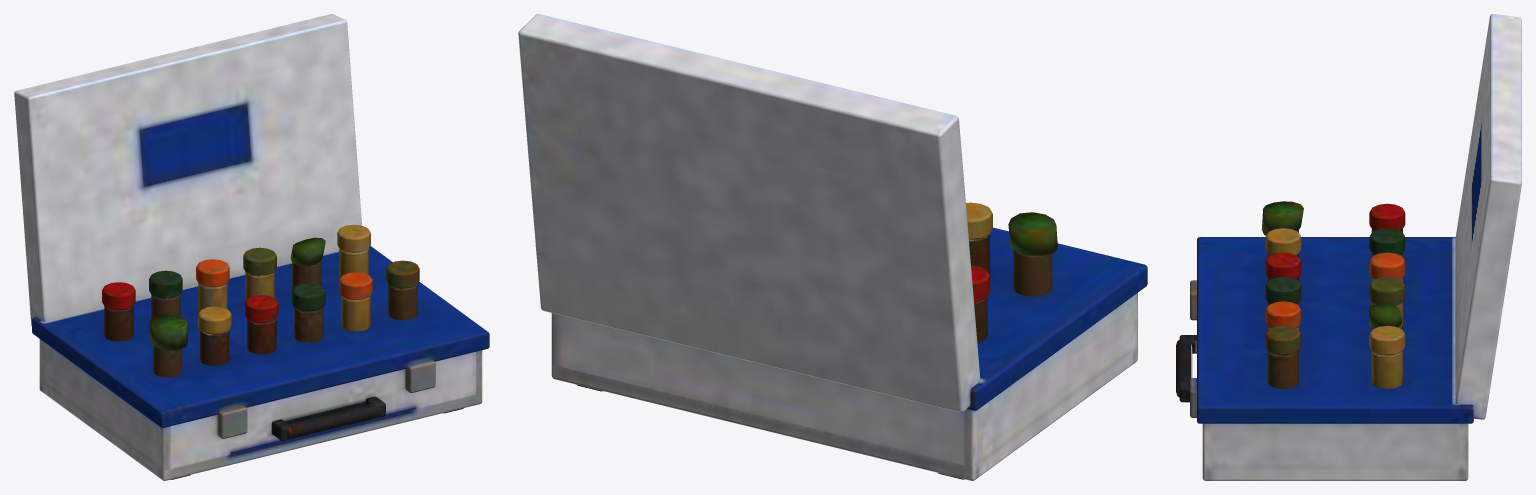
File: seed_case.glb
3 views of the same model, side by side, from view 1: azimuth 30°, elevation 25°; view 2: azimuth 150°, elevation 25°; view 3: azimuth 270°, elevation 25° (orthographic). The views are drawn at different scales.
Parts seen in each view (by area): view 1: seed_case; view 2: seed_case; view 3: seed_case.
Boxes of the visible parts, bbox=[...] form: seed_case: bbox=[14, 14, 489, 480]; seed_case: bbox=[518, 14, 1147, 480]; seed_case: bbox=[1176, 14, 1521, 480].
Size of the model in its own units: 0.35 by 0.2955 by 0.2995.
1 material, 1 textured.
